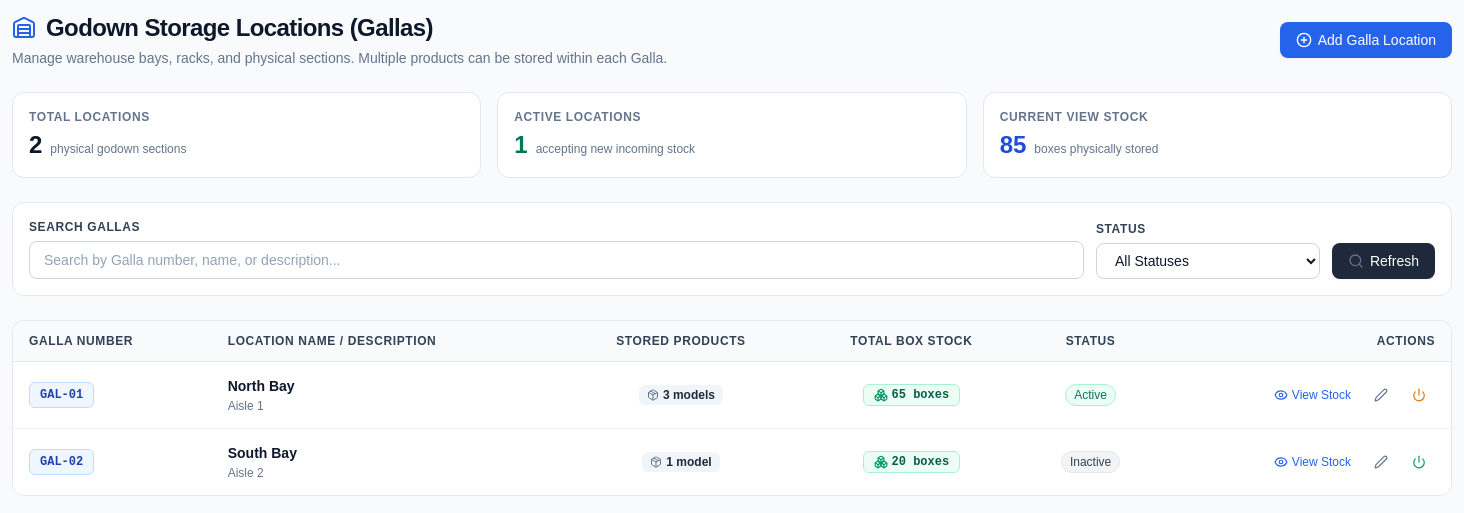
Test: Gallas Management Page › 2. filters Gallas using search input
Check: the text "GAL-01" is shown, box x1=29 y1=382 x2=94 y2=408
Type "North" into the field with placeholder "Search by Galla number, name, or description...".
click(556, 260); type("North")  # box x1=29 y1=241 x2=1084 y2=279
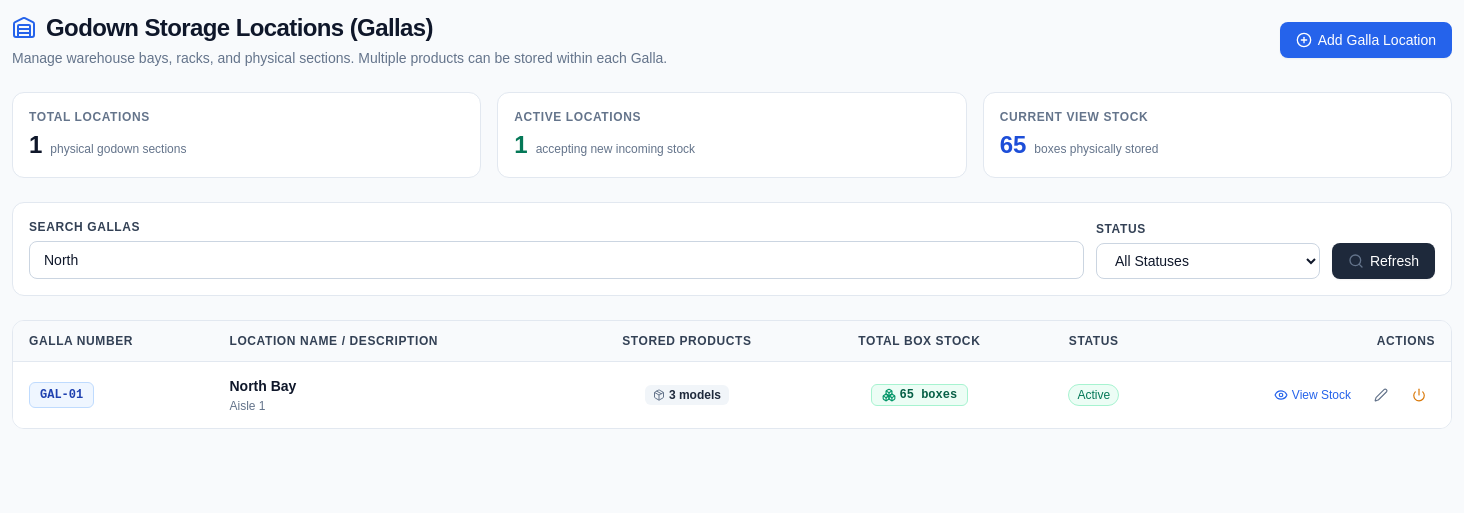
Check: the text "GAL-01" is shown, box x1=29 y1=382 x2=94 y2=408
Check: the text "GAL-02" is gone
